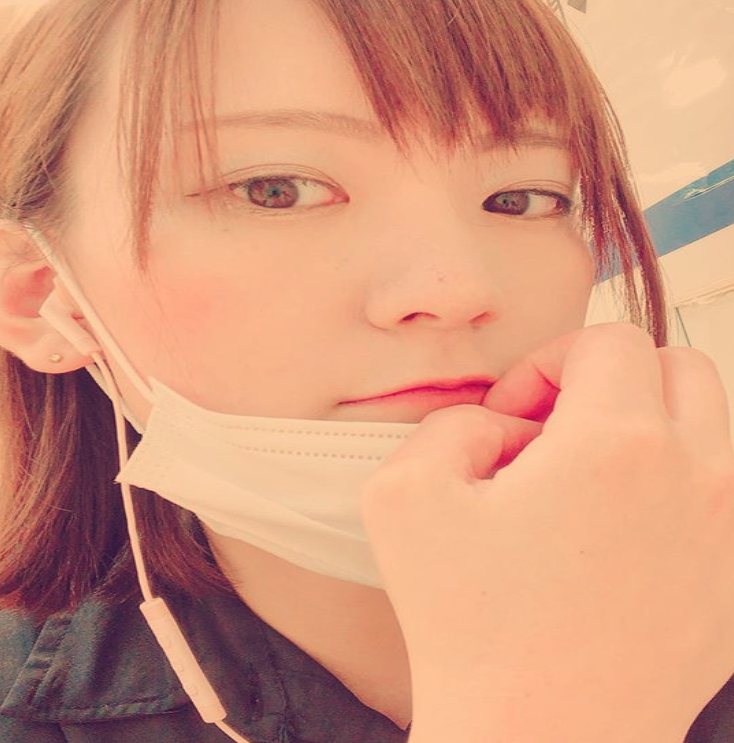mask_weared_incorrect: (1, 1, 602, 575)
